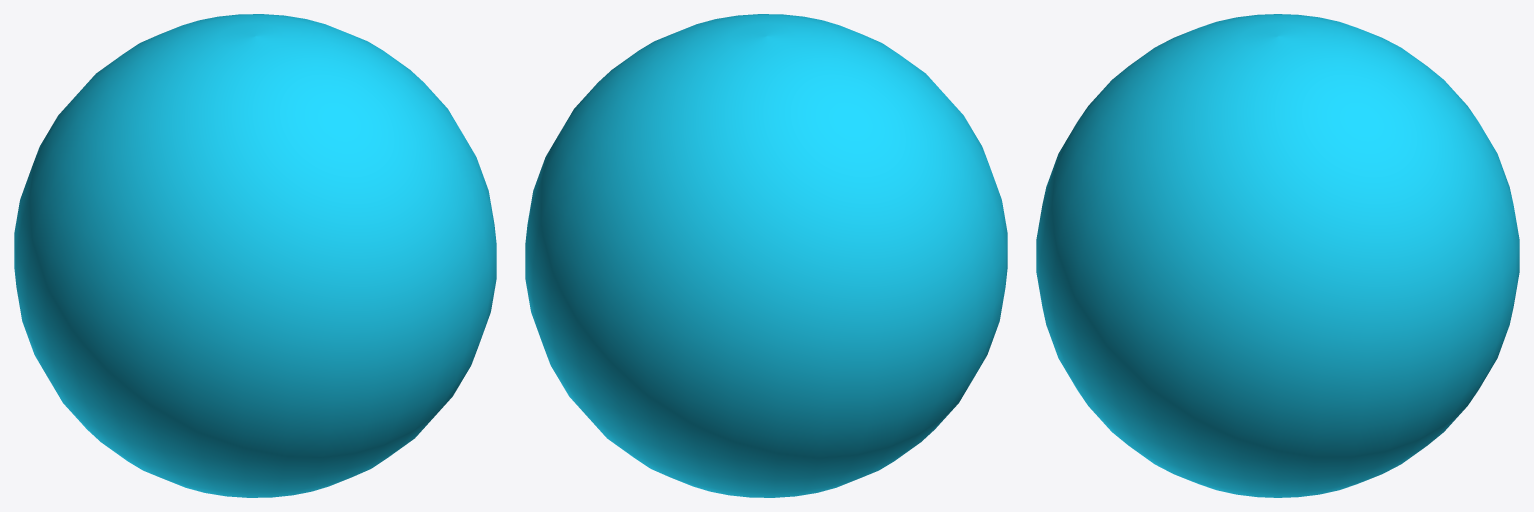
The model's file is blue.glb.
3 renders of one model, left to right at view 1: azimuth 30°, elevation 25°; view 2: azimuth 150°, elevation 25°; view 3: azimuth 270°, elevation 25°, orthographic.
Visible parts, largest first — view 1: 曲面球; view 2: 曲面球; view 3: 曲面球.
Boxes of the visible parts, box(x1,y1,x2,y2) form: 曲面球: box(14, 14, 496, 497); 曲面球: box(525, 14, 1007, 497); 曲面球: box(1036, 14, 1519, 497).
Bounding box in the file's own units: 1.99 × 2 × 1.99.
